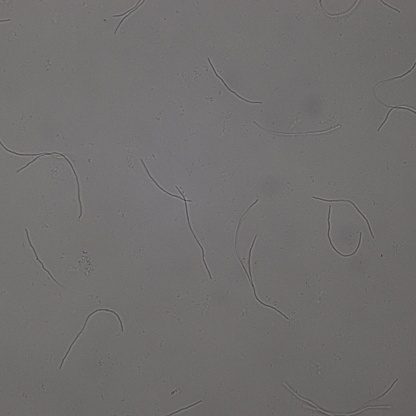Sensitive: (1, 141, 84, 220), (235, 199, 288, 320), (283, 378, 397, 416), (59, 306, 124, 368), (177, 187, 212, 279), (371, 64, 416, 135), (314, 194, 375, 240), (209, 59, 261, 104), (142, 160, 196, 202), (328, 206, 363, 260), (25, 228, 57, 283), (251, 121, 342, 139), (112, 1, 146, 37)
